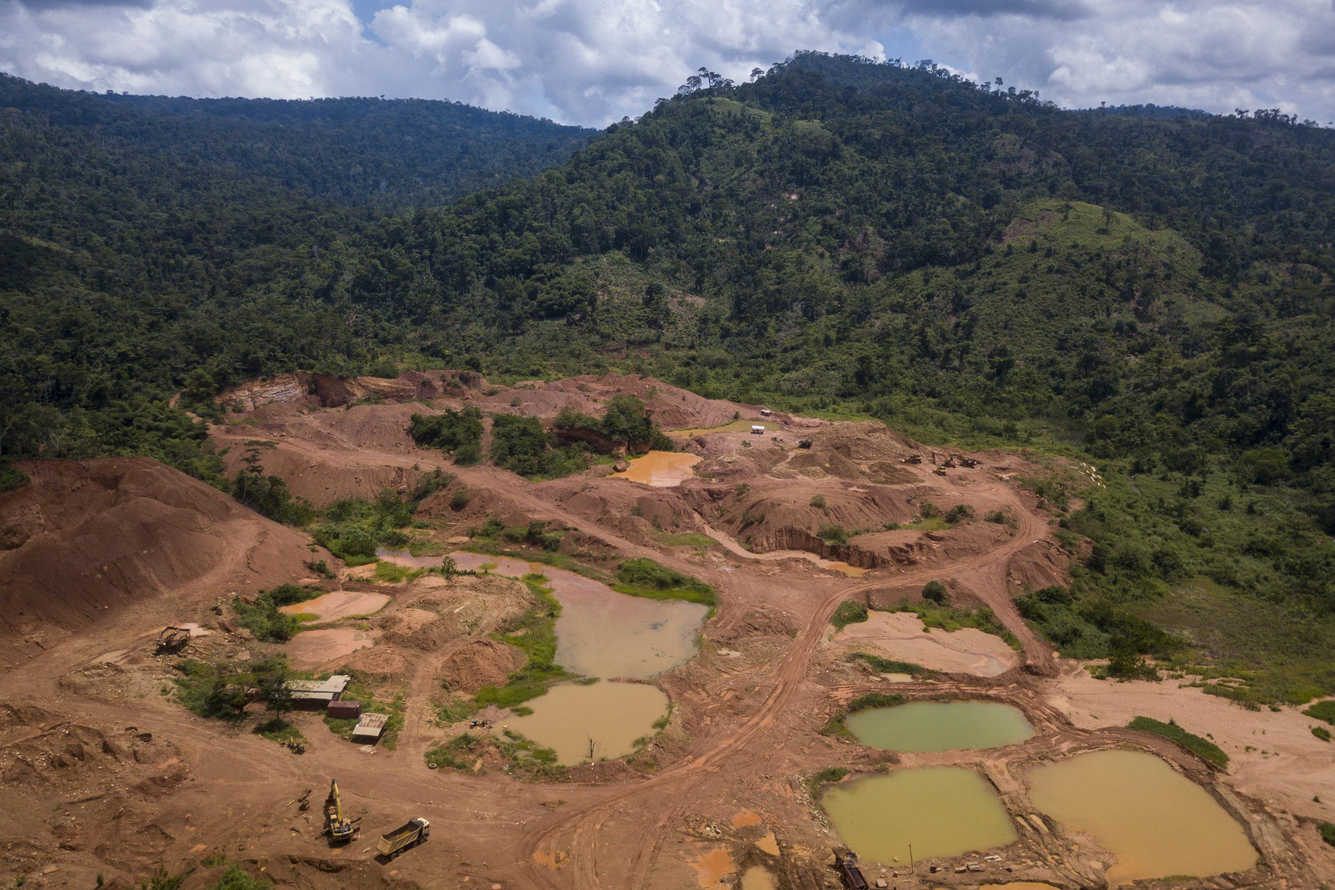ExcavationMachinery: (310, 775, 365, 847), (372, 811, 431, 860), (929, 450, 957, 469), (948, 450, 976, 467), (905, 452, 923, 464), (933, 465, 946, 477)
Structure: (270, 675, 348, 711), (351, 712, 390, 741), (159, 626, 192, 653), (327, 700, 361, 720), (751, 424, 764, 435), (760, 407, 771, 417)
